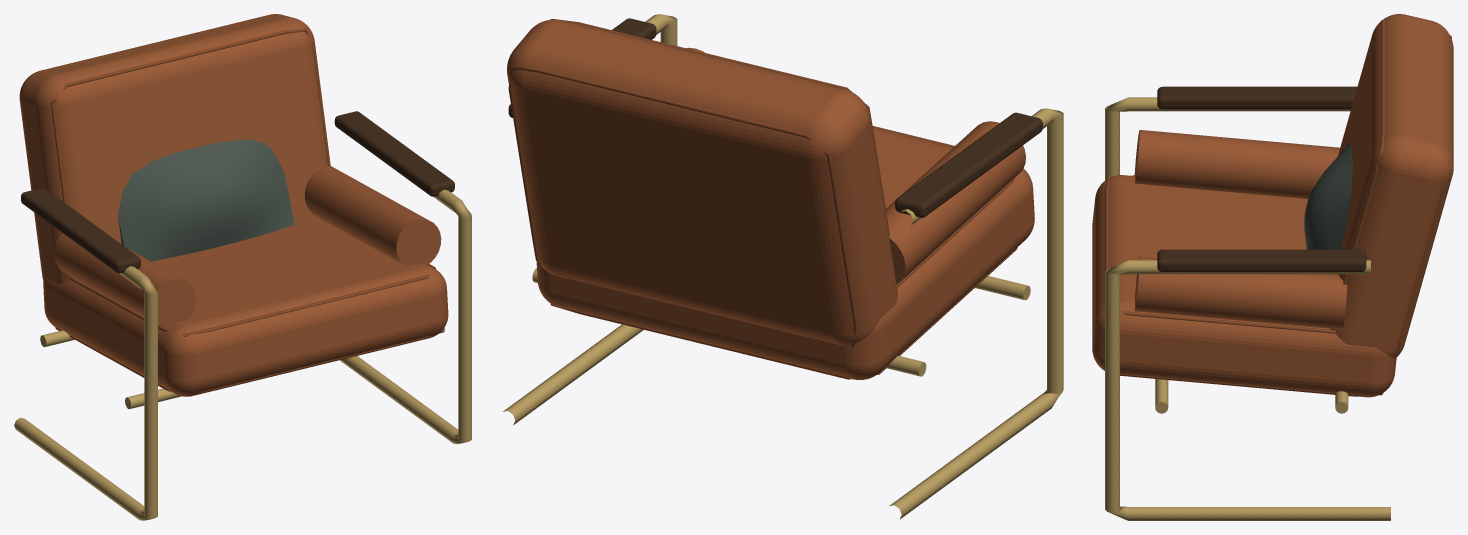
The model's file is atelier-cantilever-cognac.glb.
The picture shows the model from 3 angles, left to right: view 1: azimuth 30°, elevation 25°; view 2: azimuth 150°, elevation 25°; view 3: azimuth 270°, elevation 25°; orthographic projection. The views are drawn at different scales.
Size of the model in its own units: 0.832 by 0.801 by 0.7221.
